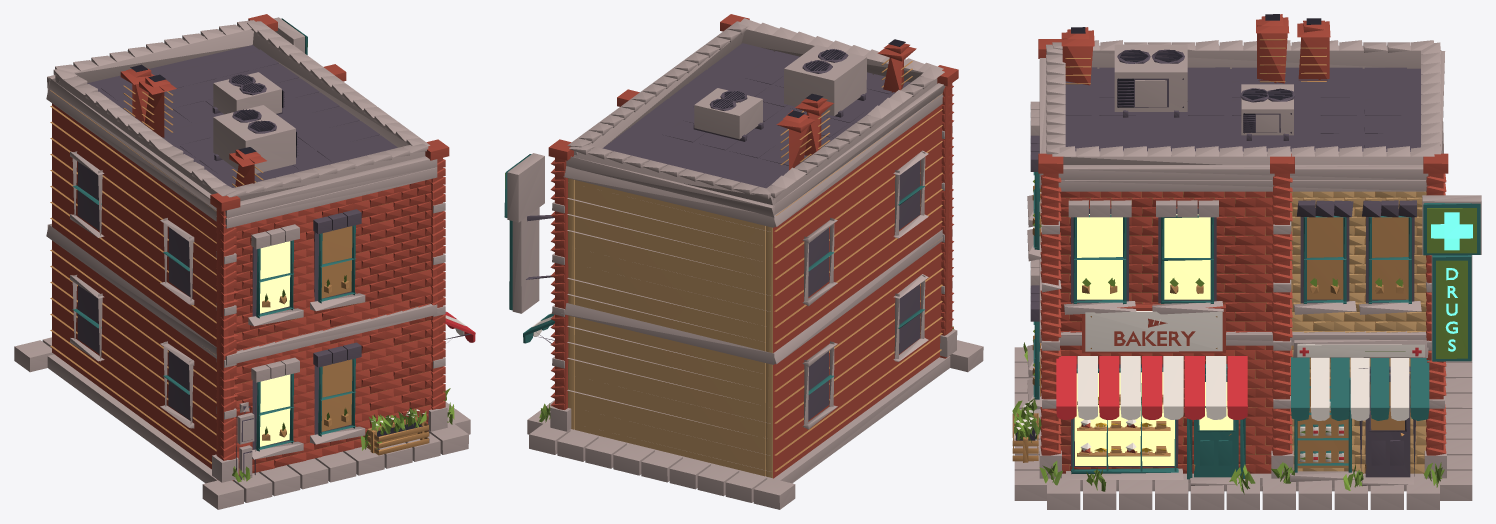
Rendered from bld.mainstreet-brick.lod1.glb.
The picture shows the model from 3 angles, left to right: view 1: azimuth 30°, elevation 25°; view 2: azimuth 150°, elevation 25°; view 3: azimuth 270°, elevation 25°; orthographic projection. The views are drawn at different scales.
Parts seen in each view (by area): view 1: body, roof; view 2: body, roof; view 3: body, roof, door_pharmacy, door_bakery.
Boxes of the visible parts, <box> form: body: <box>14,14,475,509</box>; roof: <box>53,20,430,201</box>; body: <box>504,14,983,509</box>; roof: <box>567,18,944,205</box>; body: <box>1012,39,1481,509</box>; roof: <box>1046,14,1440,164</box>; door_pharmacy: <box>1365,373,1410,477</box>; door_bakery: <box>1193,374,1238,477</box>.
Size of the model in its own units: 7.37 by 8.54 by 9.65.
